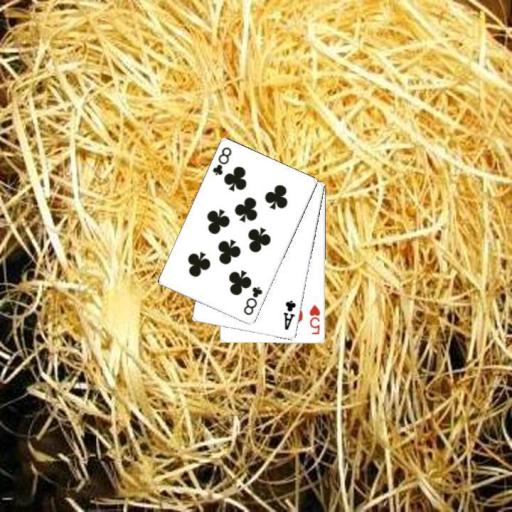5H: (307, 303, 322, 337)
8C: (240, 284, 264, 317), (209, 144, 233, 177)
AC: (281, 298, 297, 332)
